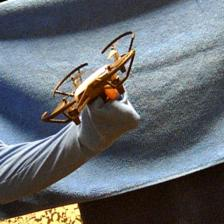drone: (40, 30, 135, 126)
